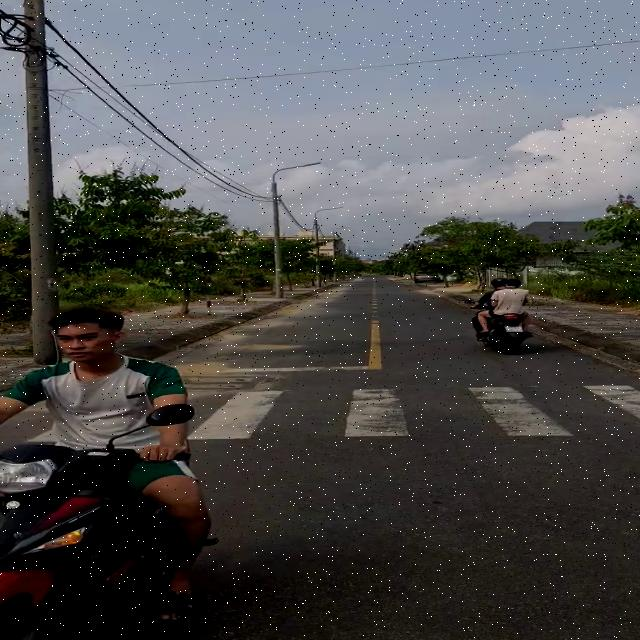helmet: (491, 278, 507, 288)
no_helmet: (48, 305, 131, 366)
